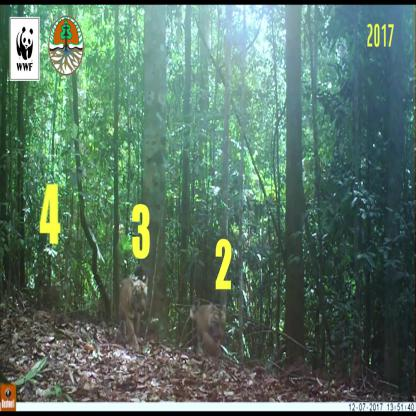Tiger: (113, 265, 152, 352), (192, 296, 229, 364)
